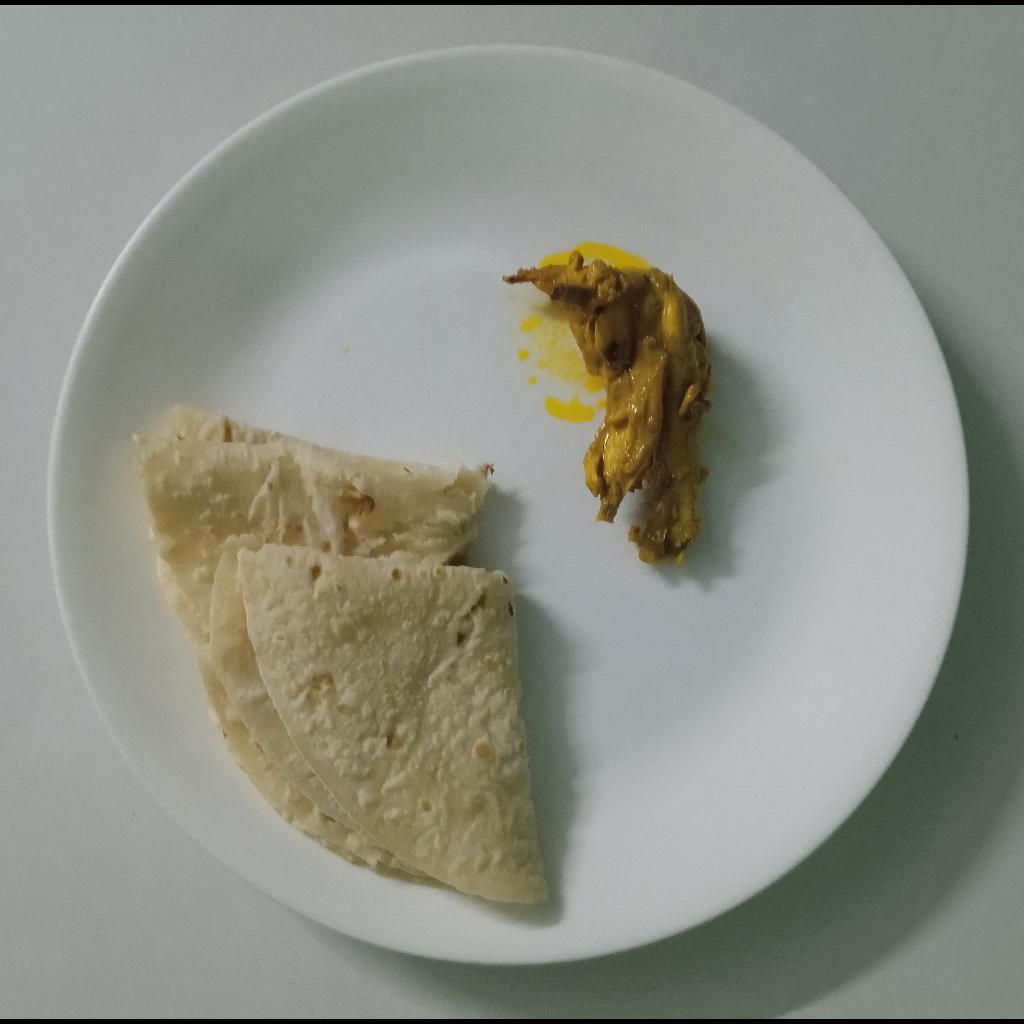chicken: (497, 239, 713, 566)
ruti: (140, 393, 546, 905)
